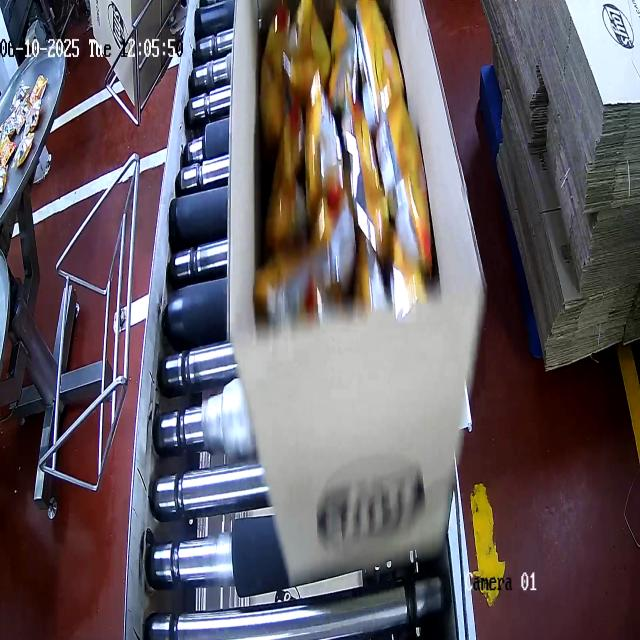FRENCH_CHEESE: (255, 0, 419, 330)
